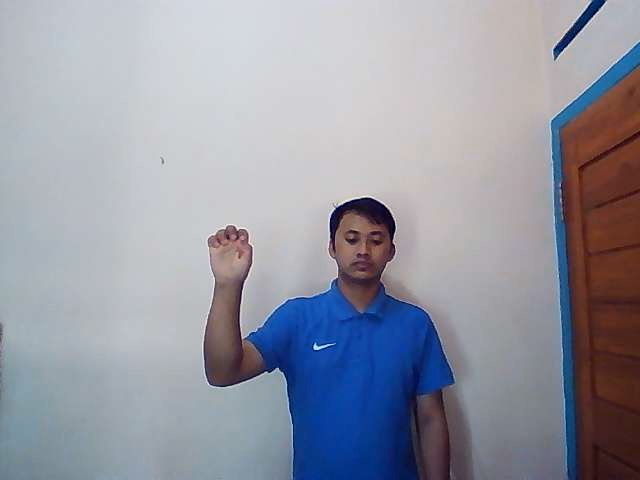E: (206, 224, 254, 287)
